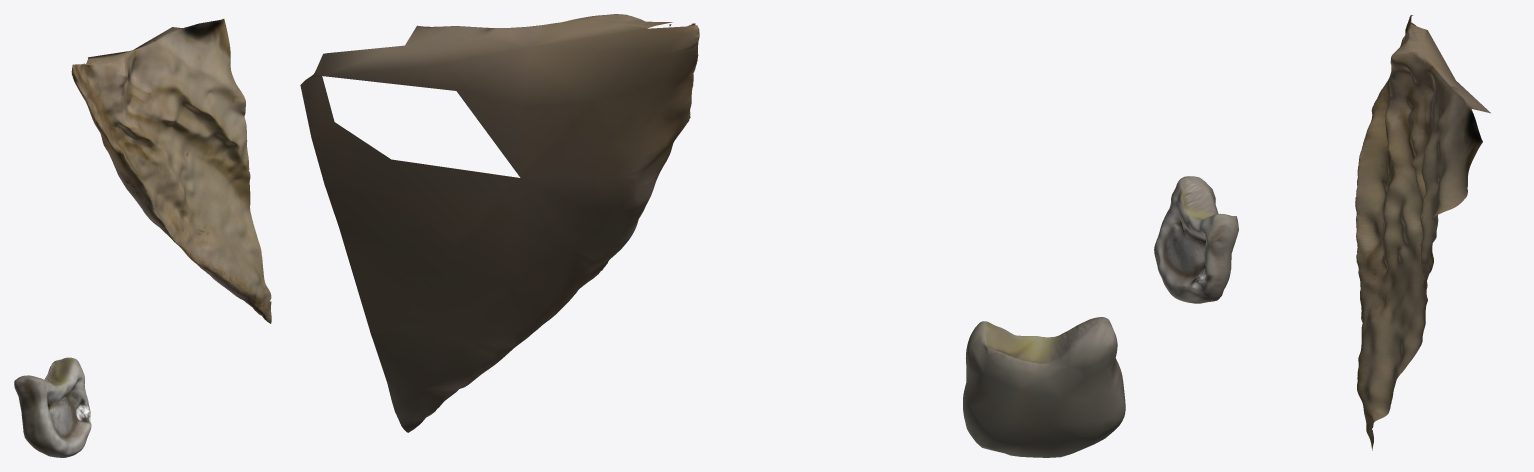
3 views of the same model, side by side, from view 1: azimuth 30°, elevation 25°; view 2: azimuth 150°, elevation 25°; view 3: azimuth 270°, elevation 25° (orthographic). The views are drawn at different scales.
Size of the model in its own units: 0.8575 by 0.7275 by 0.7024.
1 material, 1 textured.
